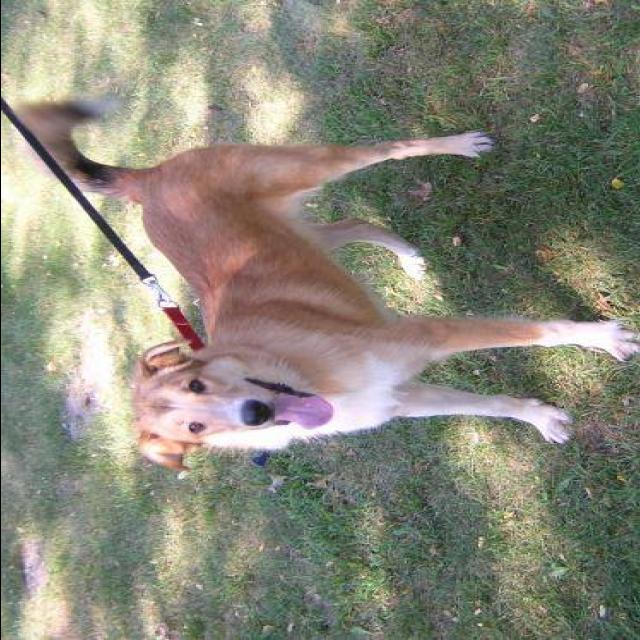dog: (0, 64, 640, 478)
